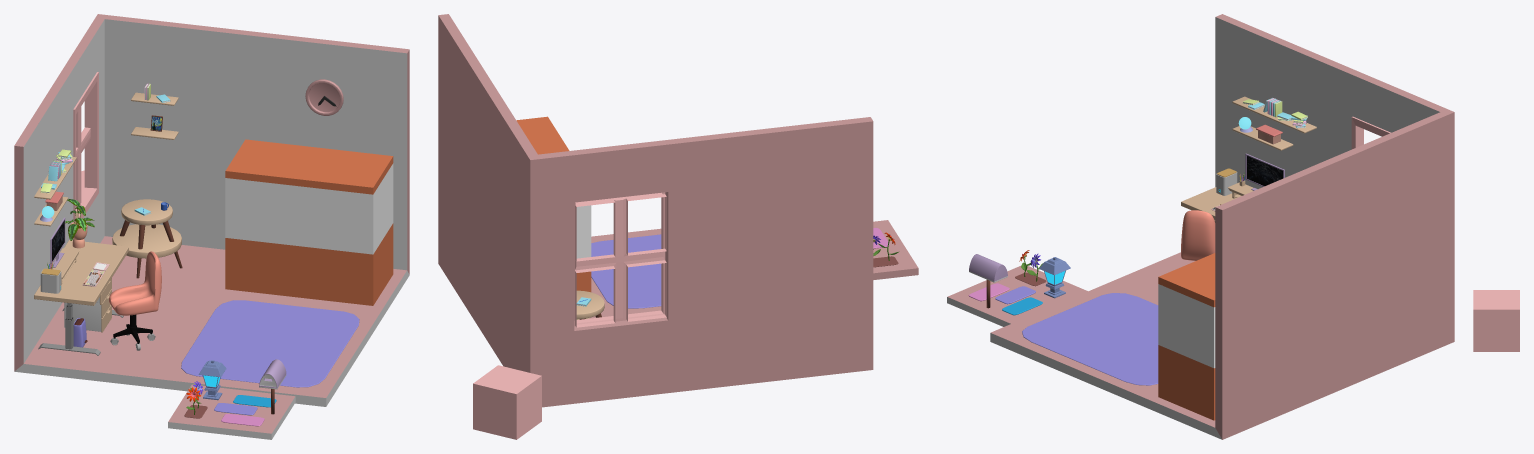
File: roomy.glb
3 views of the same model, side by side, from view 1: azimuth 30°, elevation 25°; view 2: azimuth 150°, elevation 25°; view 3: azimuth 270°, elevation 25° (orthographic). The views are drawn at different scales.
Visible parts, largest first — view 1: Body, AquaGlass, Floor Items, Desks, Mini Floor, Shelves, Table Stuff, Chair, Clock, Lamp, Mailbox, Computer (+2 smaller); view 2: Body, Cube, Floor Items, AquaGlass, Mini Floor, Desks; view 3: Body, AquaGlass, Floor Items, Cube, Mini Floor, Shelves, Chair, Computer, Mailbox, Table Stuff, Desks, Lamp.
Part boxes in pixels (x1,y1,x2,y2): Body: (14,14,409,406); AquaGlass: (225,139,393,305); Floor Items: (64,278,359,387); Desks: (34,199,182,355); Mini Floor: (168,384,295,439); Shelves: (34,83,178,226); Table Stuff: (40,199,168,293); Chair: (109,251,161,315); Clock: (305,79,343,115); Lamp: (198,360,226,400); Mailbox: (259,359,286,414); Computer: (50,217,65,267); Body: (438,14,873,407); Cube: (473,365,541,439); Floor Items: (591,234,661,308); AquaGlass: (516,116,591,292); Mini Floor: (873,220,918,279); Desks: (576,290,604,319); Body: (990,14,1454,439); AquaGlass: (1158,253,1215,420); Floor Items: (1022,293,1158,385); Cube: (1473,290,1519,351); Mini Floor: (947,266,1087,326); Shelves: (1232,96,1316,150); Chair: (1181,210,1215,260); Computer: (1245,153,1284,190); Mailbox: (969,254,1007,308); Table Stuff: (1211,168,1253,211); Desks: (1181,187,1236,222); Lamp: (1039,257,1070,298).
Bounding box in the file's own units: 29.18 × 15.93 × 35.99.
70 materials, 3 textured.
